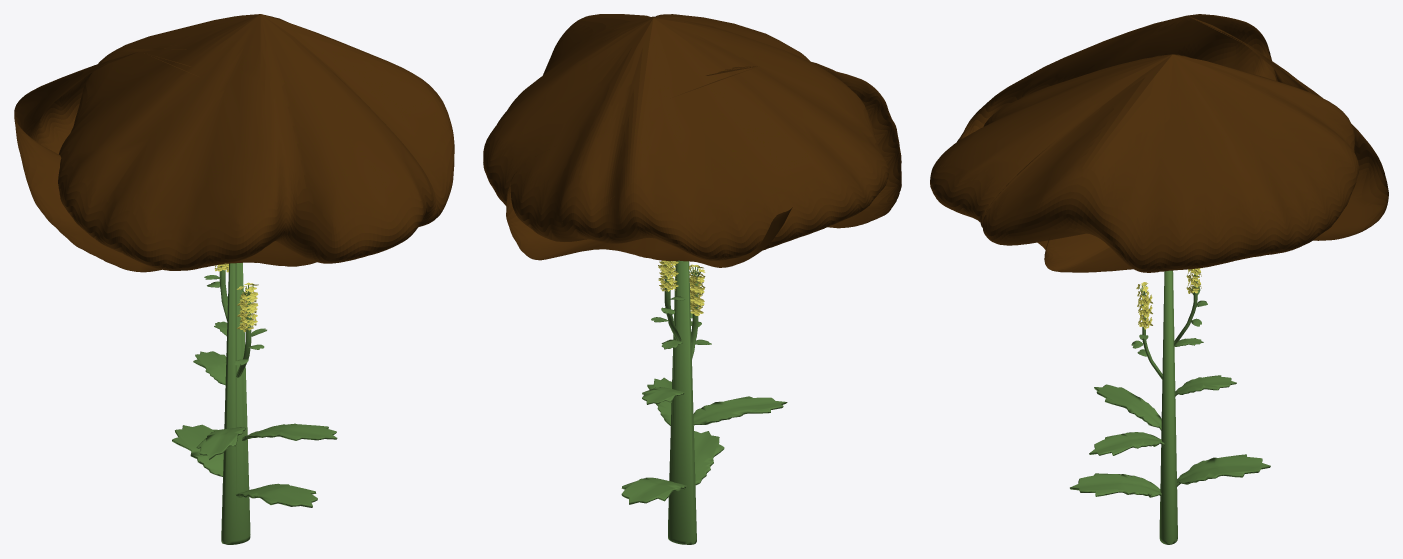
File: canola.glb
The picture shows the model from 3 angles, left to right: view 1: azimuth 30°, elevation 25°; view 2: azimuth 150°, elevation 25°; view 3: azimuth 270°, elevation 25°; orthographic projection. The views are drawn at different scales.
Visible parts, largest first — view 1: Object_4, flowering; view 2: Object_4, flowering; view 3: Object_4, flowering.
Part boxes in pixels (x1,y1,x2,y2): Object_4: [14, 14, 454, 272]; flowering: [172, 263, 337, 544]; Object_4: [483, 14, 901, 267]; flowering: [621, 260, 787, 544]; Object_4: [930, 14, 1388, 272]; flowering: [1070, 268, 1270, 544].
Size of the model in its own units: 1.26 by 1.69 by 1.42.
Materials: 1 (1 with a texture image).
